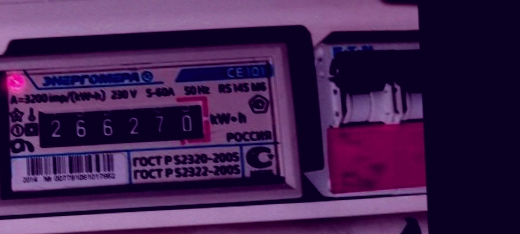0: (179, 111, 192, 133)
2: (47, 116, 62, 138), (126, 114, 139, 135)
6: (73, 117, 87, 138), (99, 116, 113, 136)
7: (151, 113, 165, 134)
screen: (27, 91, 217, 157)
